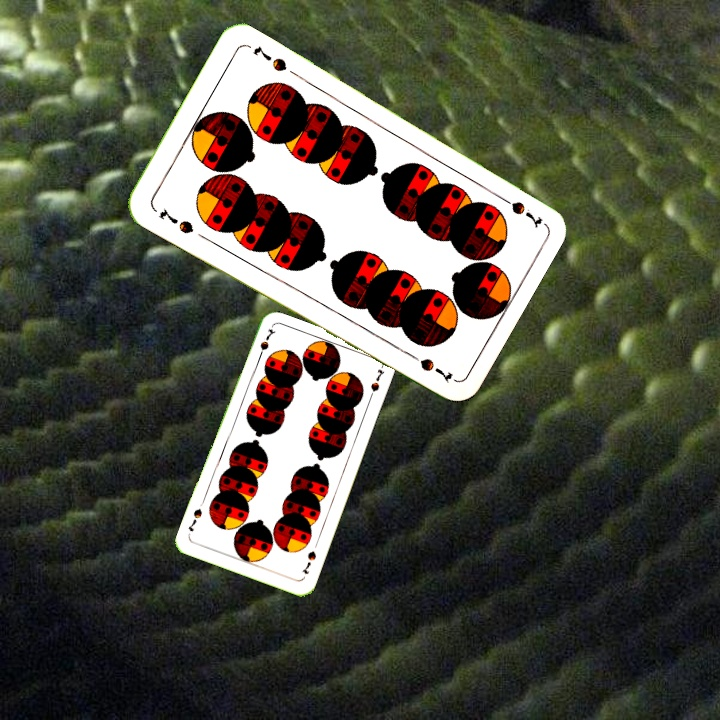S7: (491, 190, 545, 229), (155, 204, 196, 237), (254, 325, 276, 363), (298, 547, 319, 577)
